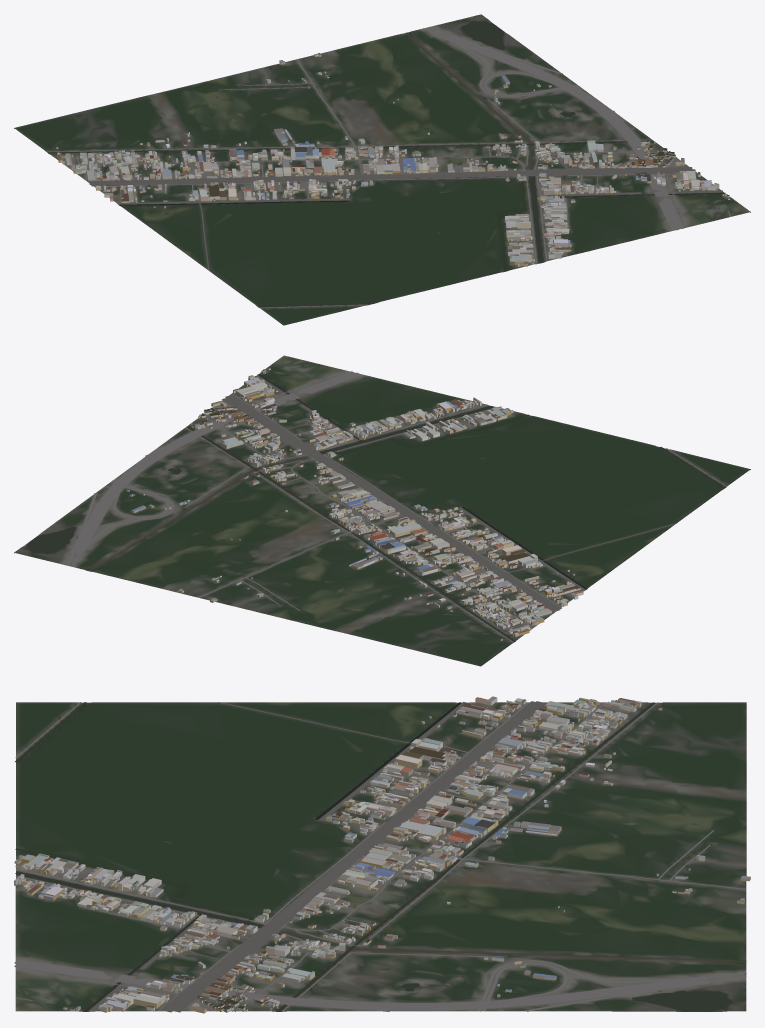
3 views of the same model, one above another, from view 1: azimuth 30°, elevation 25°; view 2: azimuth 150°, elevation 25°; view 3: azimuth 270°, elevation 25° (orthographic). The views are drawn at different scales.
Parts seen in each view (by area): view 1: ground, buildings, roads, water; view 2: ground, buildings, roads, water; view 3: ground, buildings, roads, water.
Part boxes in pixels (x1,y1,x2,y2): ground: (14, 14, 750, 325); buildings: (56, 53, 729, 266); roads: (47, 27, 731, 308); water: (48, 21, 725, 307); ground: (14, 355, 750, 666); buildings: (126, 368, 583, 640); roads: (66, 360, 726, 642); water: (26, 374, 725, 641); ground: (15, 702, 746, 1011); buildings: (14, 696, 750, 1013); roads: (14, 701, 746, 1012); water: (15, 702, 746, 1011).
Bounding box in the file's own units: 1419 × 20.67 × 1413.
